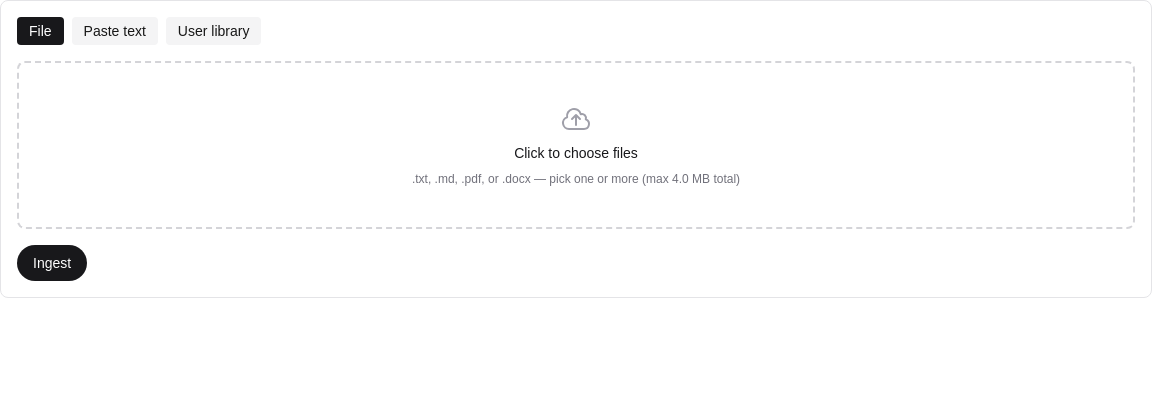
Test: FileUpload › a thrown fetch becomes its message
Click the button "Paste text" at (115, 31), box [72,17,158,45]
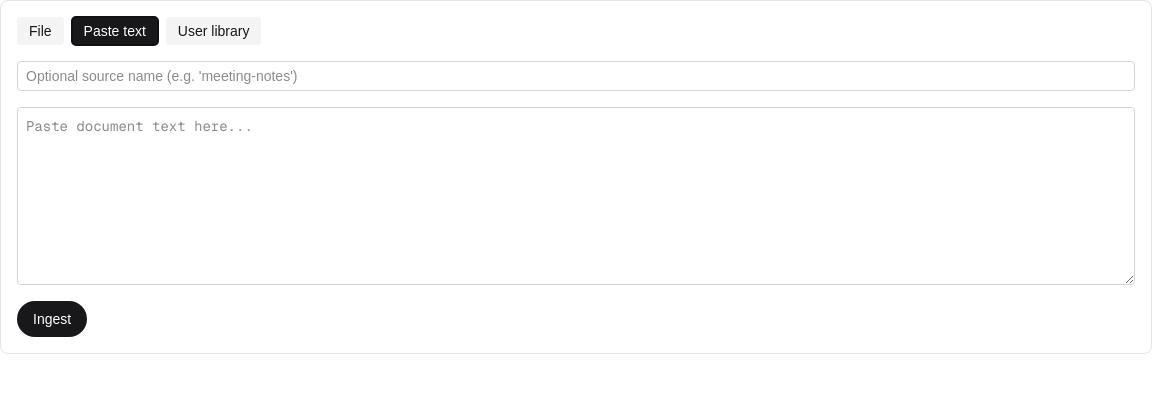
Type "x" into the text box with placeholder "Paste document text here..." at (576, 196), box [17,107,1135,285]
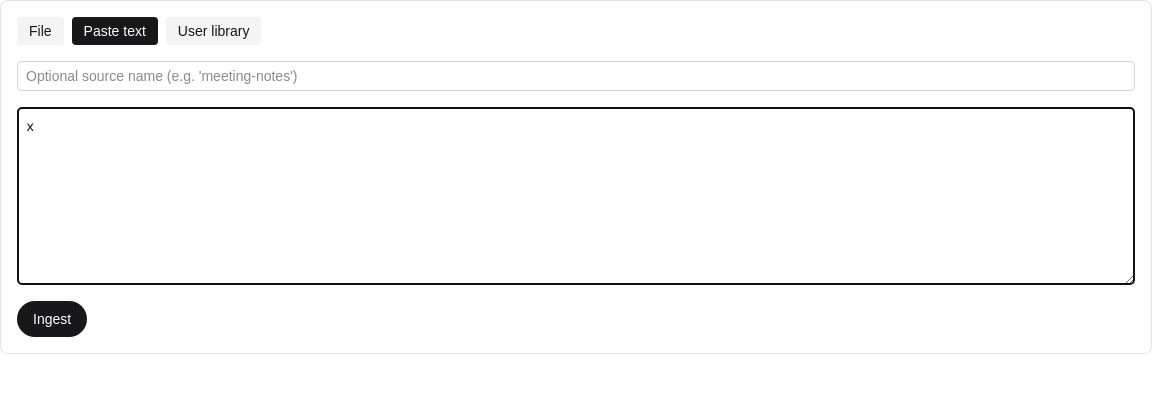
Click the button "Ingest" at (52, 319), box [17,301,87,337]
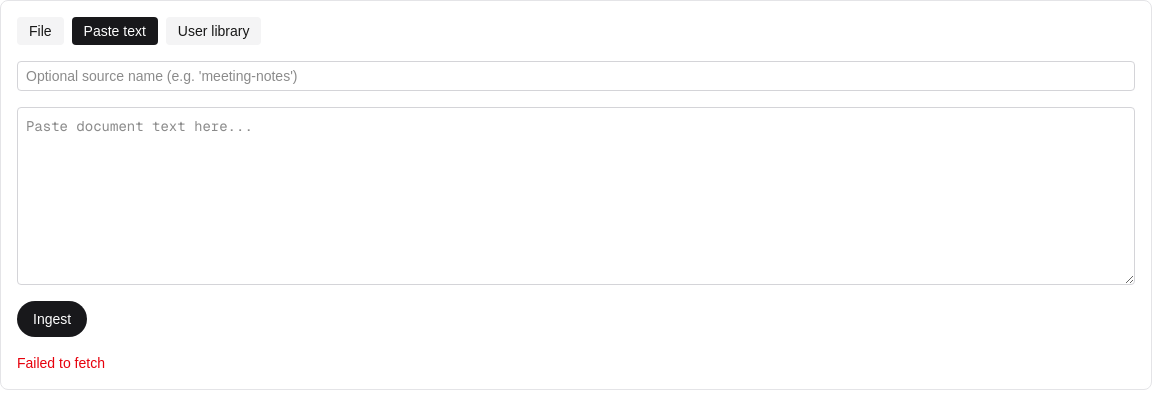
Check: the text "Failed to fetch" is shown, box [17,355,105,371]
